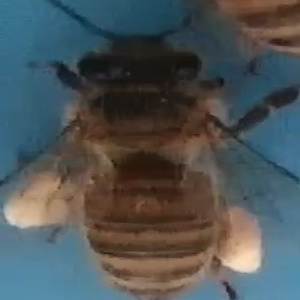bee: (5, 1, 263, 299)
